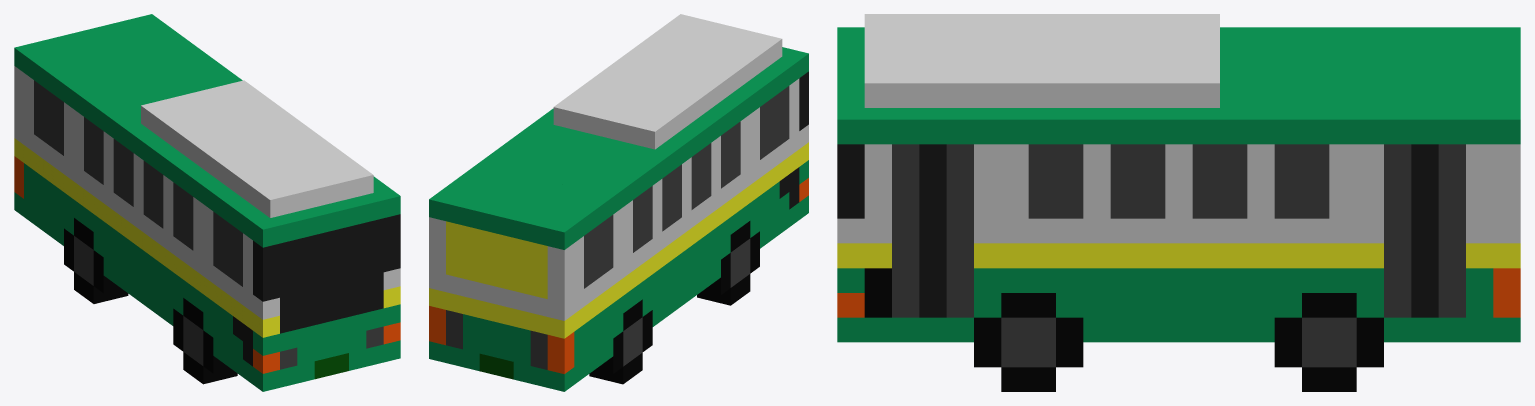
The model's file is Bus.obj.
3 renders of one model, left to right at view 1: azimuth 30°, elevation 25°; view 2: azimuth 150°, elevation 25°; view 3: azimuth 270°, elevation 25°, orthographic. The views are drawn at different scales.
Visible parts, largest first — view 1: 立方体.049; view 2: 立方体.049; view 3: 立方体.049.
Part boxes in pixels (box(x1,y1,x2,y2)): 立方体.049: box(14, 14, 400, 391); 立方体.049: box(429, 14, 808, 391); 立方体.049: box(837, 14, 1520, 391).
Size of the model in its own units: 8 by 12 by 25.
